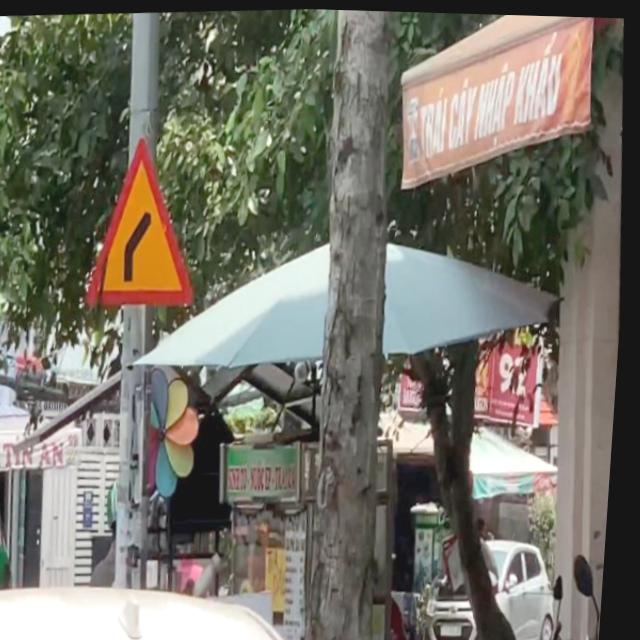cho ngoat nguy hiem vong ben phai: (72, 114, 215, 321)
